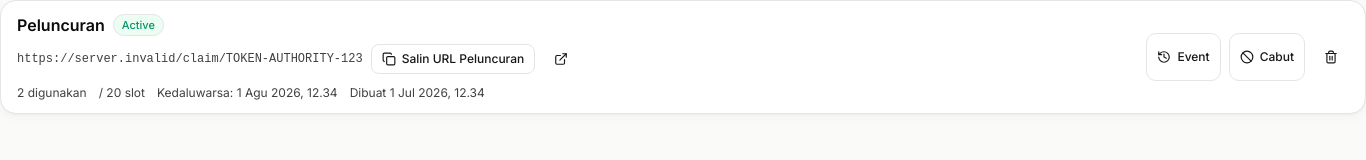
Test: komponen manajemen publikasi › memberi kontrol terhubung untuk event dan URL klaim berbasis token
Click the button with aria-label "Tampilkan event Peluncuran": {"x": 1184, "y": 57} [1146,33,1221,81]
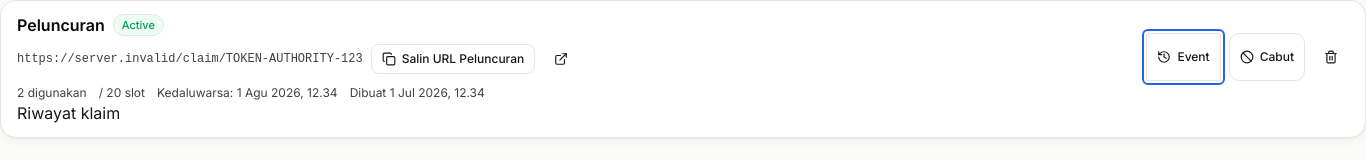
Result: the text "Riwayat klaim" is shown at [17,103,120,123]
